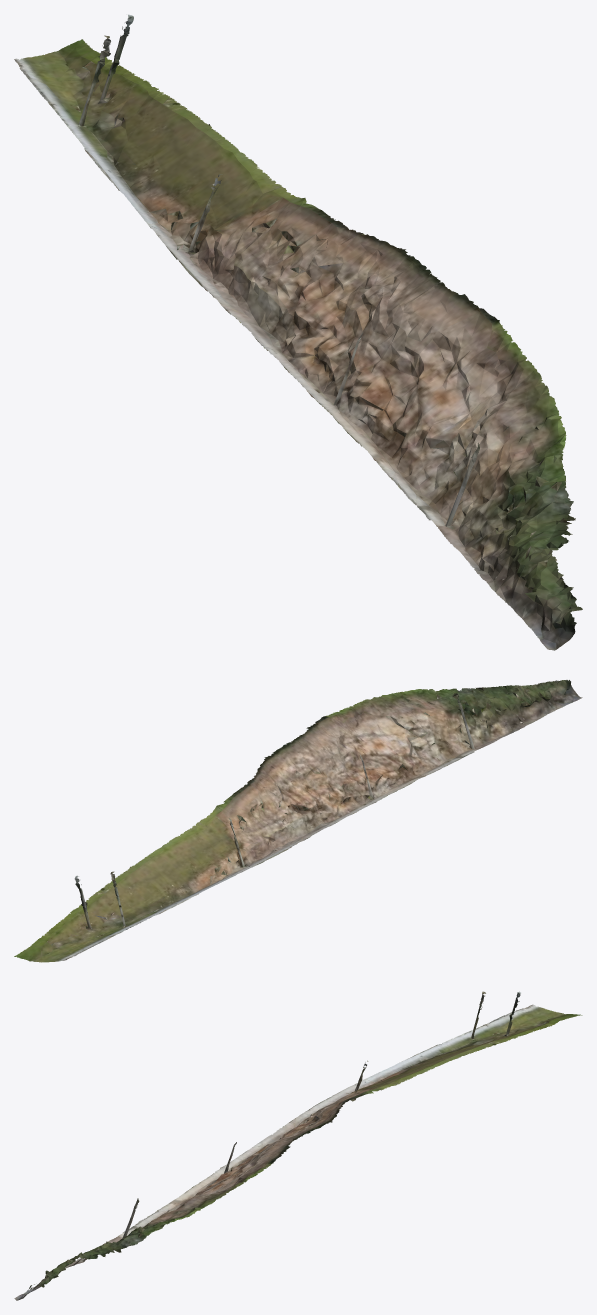
3 views of the same model, one above another, from view 1: azimuth 30°, elevation 25°; view 2: azimuth 150°, elevation 25°; view 3: azimuth 330°, elevation 25° (orthographic). The views are drawn at different scales.
Size of the model in its own units: 21.39 by 9.22 by 105.
Materials: 1 (1 with a texture image).
